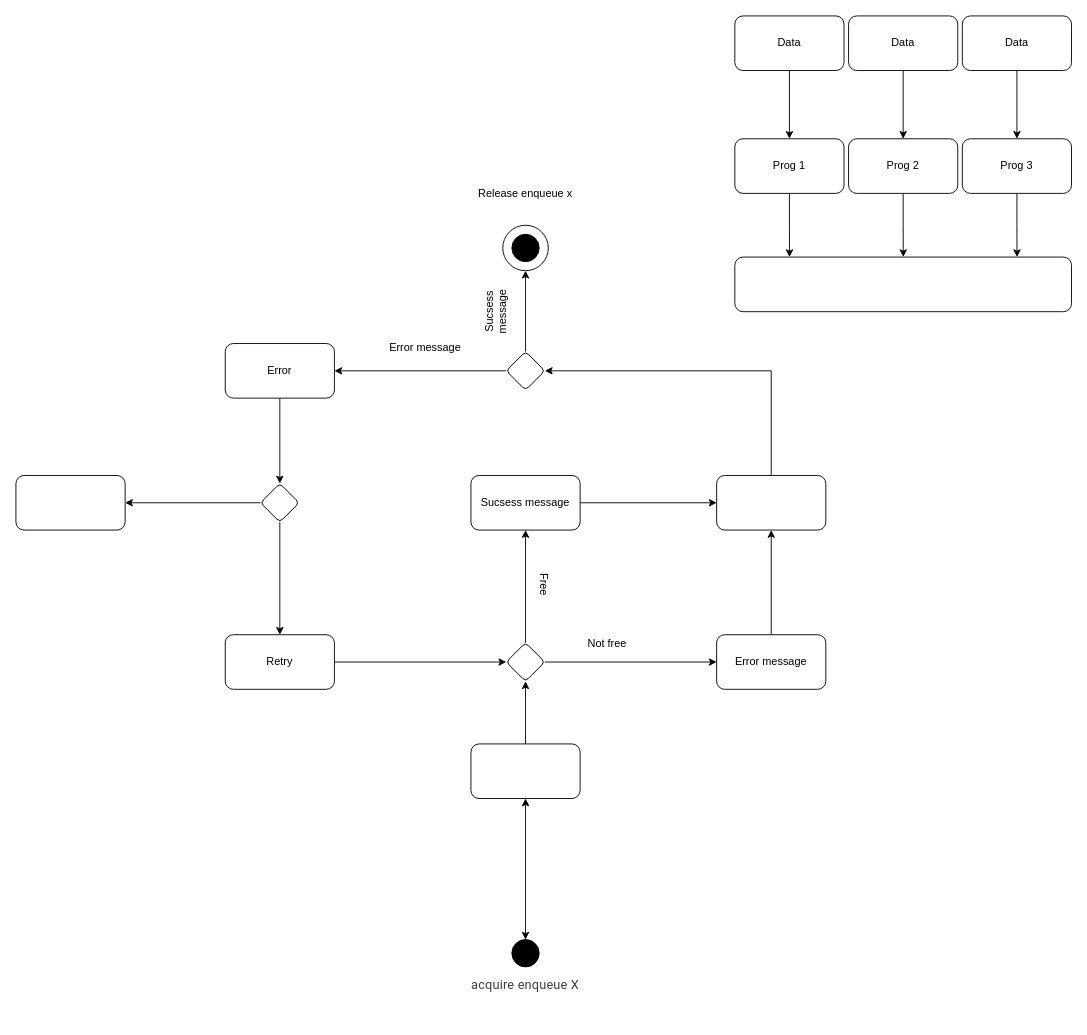
Image size: 1087x1035. Some labels were removed from this diagram. The shapes that lost their labels are listed below. From the top down, each one's centre as x and y in pixels, then its label:
At pixel 903 284: "Shared Resources".
At pixel 70 502: "End".
At pixel 771 502: "Check".
At pixel 525 771: "State check".
